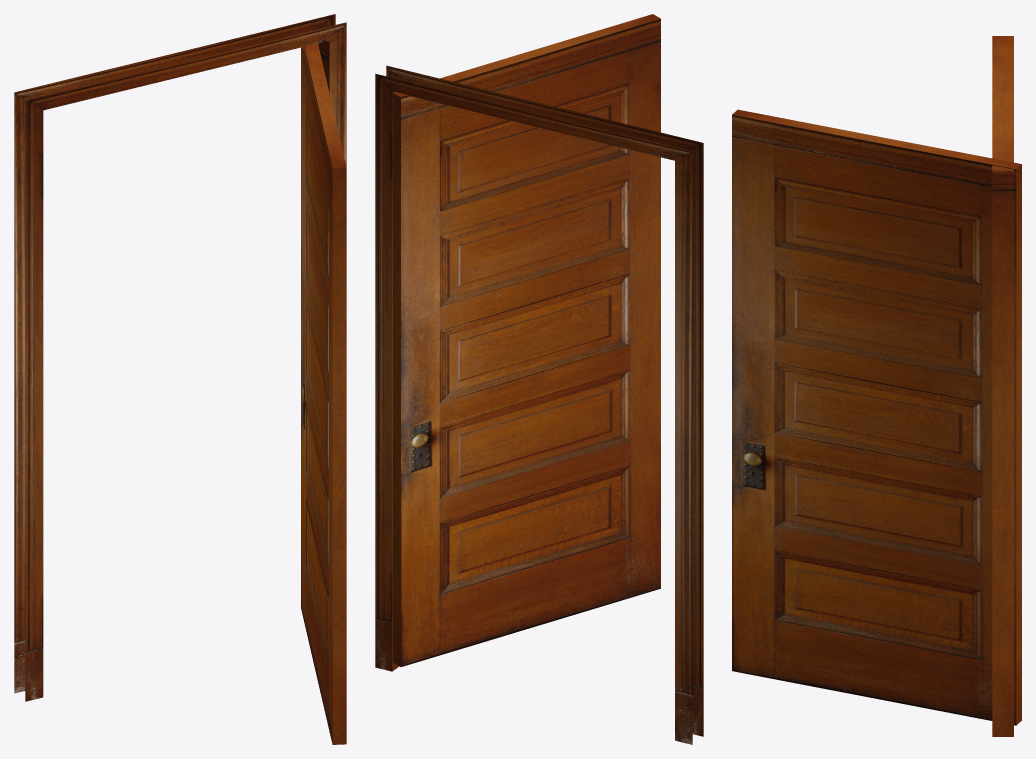
File: openDoor.fbx
3 renders of one model, left to right at view 1: azimuth 30°, elevation 25°; view 2: azimuth 150°, elevation 25°; view 3: azimuth 270°, elevation 25°, orthographic. The views are drawn at different scales.
Visible parts, largest first — view 1: InteriorDoor, InteriorDoorProfile; view 2: InteriorDoor, InteriorDoorProfile; view 3: InteriorDoor, InteriorDoorProfile.
Boxes of the visible parts, box(x1,y1,x2,y2) form: InteriorDoor: box(301, 43, 346, 744); InteriorDoorProfile: box(14, 14, 346, 701); InteriorDoor: box(393, 14, 660, 666); InteriorDoorProfile: box(375, 65, 703, 744); InteriorDoor: box(732, 109, 1021, 725); InteriorDoorProfile: box(992, 36, 1013, 736).
Bounding box in the file's own units: 132 × 236 × 107.
